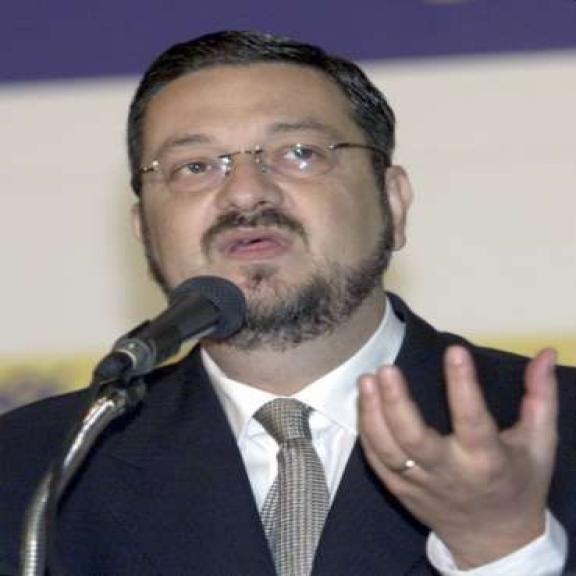face: (123, 69, 433, 330)
